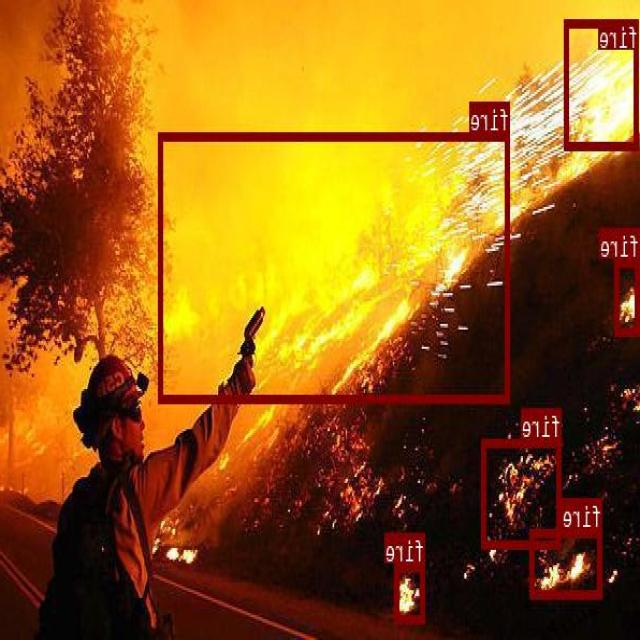fire: (159, 132, 511, 401), (566, 19, 640, 148), (483, 438, 562, 548), (531, 529, 603, 596), (615, 258, 640, 334), (396, 562, 426, 621)
